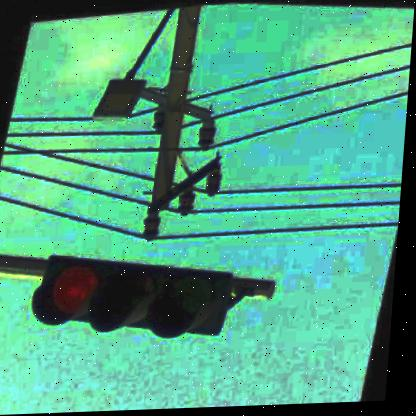Traffic Light -Red-: (31, 234, 246, 351)
